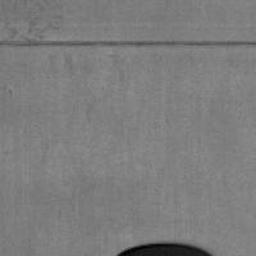Welding line: (0, 40, 256, 47), (119, 242, 212, 256)
